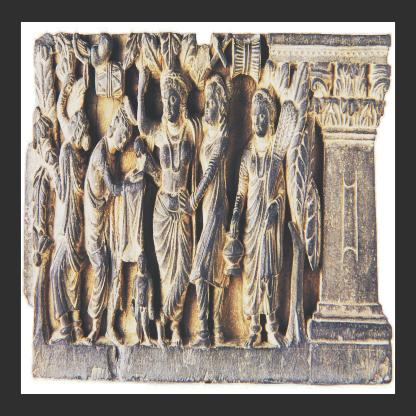buddha-standing: (137, 68, 201, 345)
